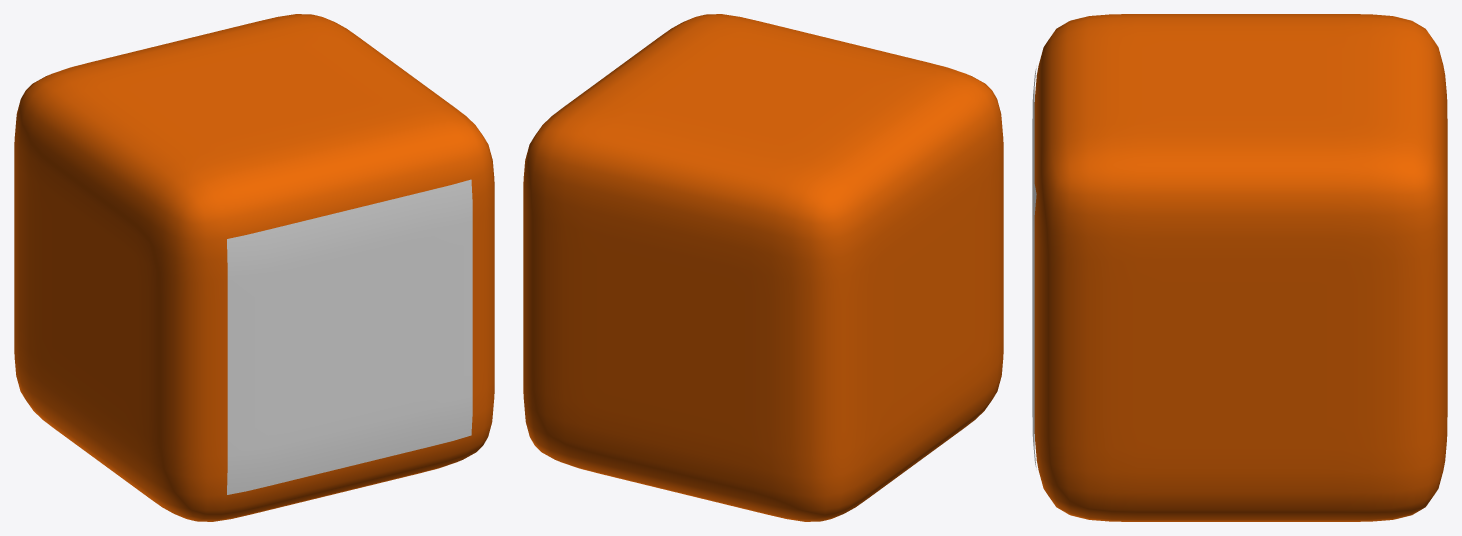
File: DeathProtag.fbx
The picture shows the model from 3 angles, left to right: view 1: azimuth 30°, elevation 25°; view 2: azimuth 150°, elevation 25°; view 3: azimuth 270°, elevation 25°; orthographic projection. The views are drawn at different scales.
Parts seen in each view (by area): view 1: Cube; view 2: Cube; view 3: Cube.
Boxes of the visible parts, x1,y1,x2,y2 form: Cube: (14,14,494,521); Cube: (523,14,1003,521); Cube: (1032,14,1447,521).
Size of the model in its own units: 200 by 200 by 201.
